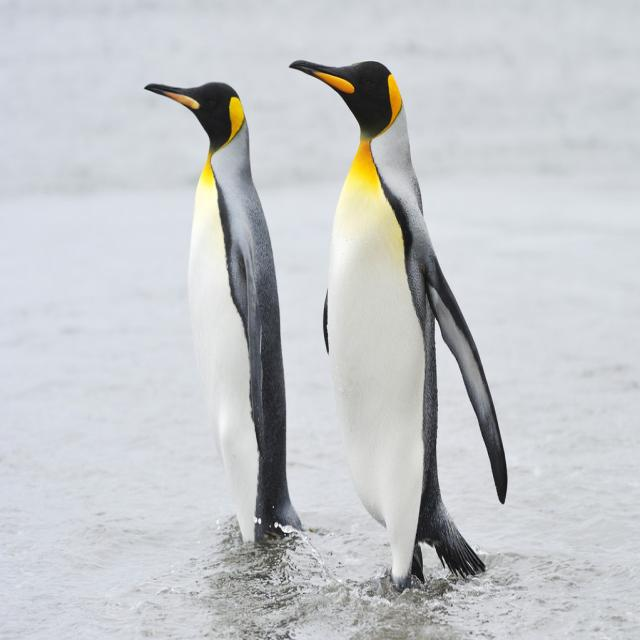Penguins: (282, 43, 466, 606), (139, 63, 298, 575)
